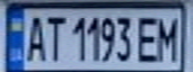1: (66, 12, 87, 62), (84, 12, 100, 62)
3: (115, 12, 136, 62)
9: (97, 12, 118, 62)
A: (21, 11, 48, 62)
E: (136, 12, 163, 64)
M: (154, 12, 181, 63)
T: (42, 12, 66, 62)
